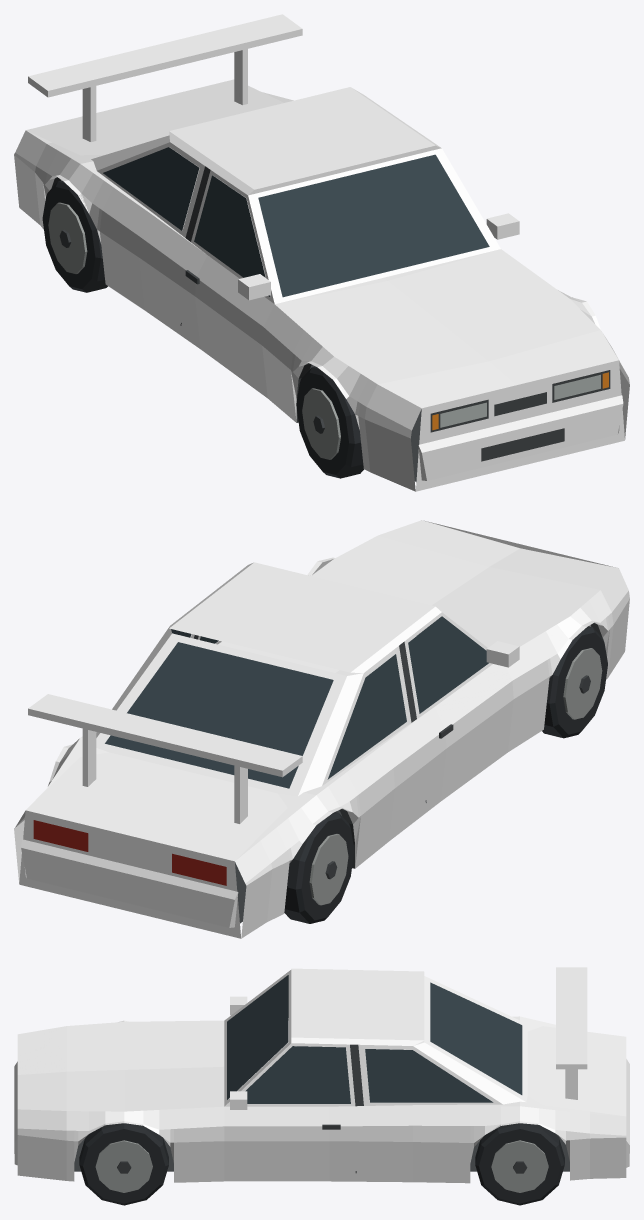
The model's file is mizuchi_chidori_corrida.glb.
The picture shows the model from 3 angles, top to bottom: view 1: azimuth 30°, elevation 25°; view 2: azimuth 150°, elevation 25°; view 3: azimuth 270°, elevation 25°; orthographic projection. The views are drawn at different scales.
Parts seen in each view (by area): view 1: mizuchi_chidori_corrida; view 2: mizuchi_chidori_corrida; view 3: mizuchi_chidori_corrida.
Boxes of the visible parts, bbox=[...] form: mizuchi_chidori_corrida: bbox=[14, 14, 629, 491]; mizuchi_chidori_corrida: bbox=[14, 520, 629, 938]; mizuchi_chidori_corrida: bbox=[14, 967, 629, 1205].
Bounding box in the file's own units: 1.72 × 1.2 × 4.34.
8 materials, 1 textured.
